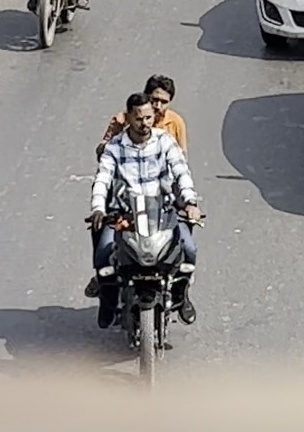BikeWithRider: (77, 68, 212, 396)
NoHelmet: (119, 89, 160, 141), (138, 70, 181, 118)
